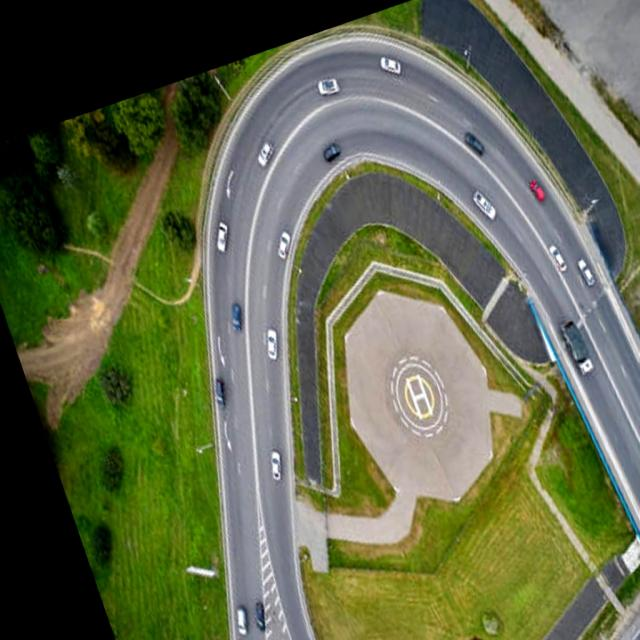helipad: (391, 362, 445, 429)
